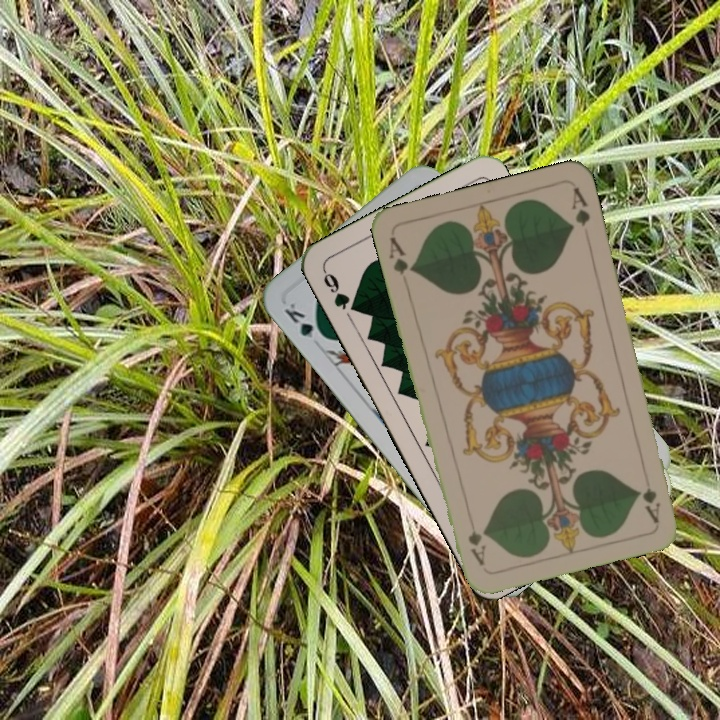G9: (319, 266, 362, 315)
GA: (638, 466, 663, 525), (385, 232, 417, 277)
GK: (280, 298, 329, 343)
